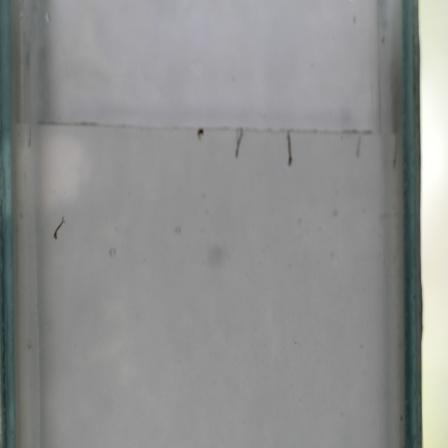Jentik-Nyamuk: (50, 212, 68, 242)
